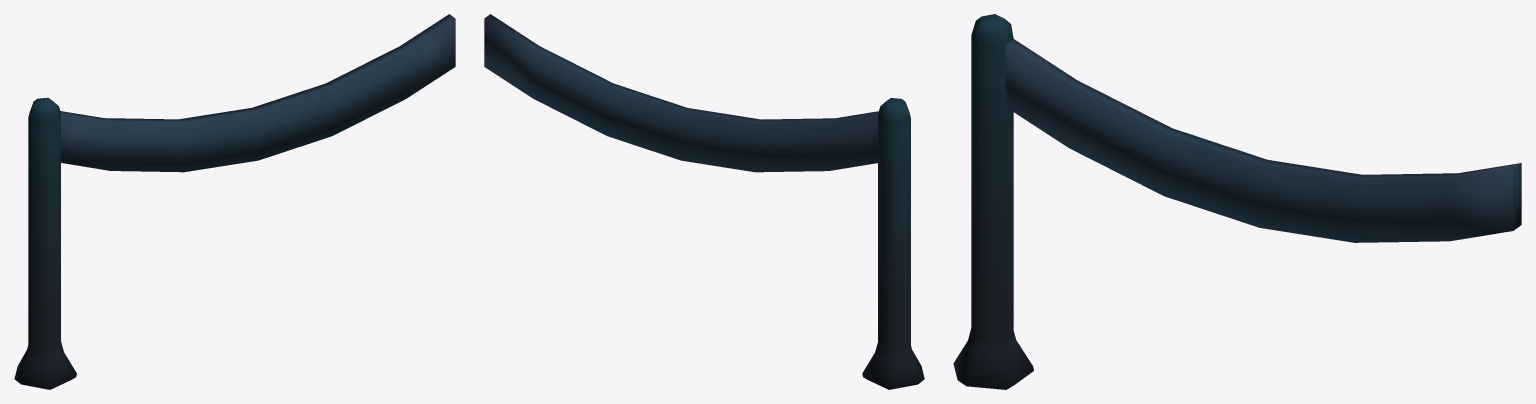
Rendered from barrier.fbx.
3 views of the same model, side by side, from view 1: azimuth 30°, elevation 25°; view 2: azimuth 150°, elevation 25°; view 3: azimuth 330°, elevation 25° (orthographic). The views are drawn at different scales.
Parts seen in each view (by area): view 1: Cylinder.001; view 2: Cylinder.001; view 3: Cylinder.001.
Part boxes in pixels (x1,y1,x2,y2): Cylinder.001: (14,14,455,389); Cylinder.001: (484,14,924,389); Cylinder.001: (953,14,1521,389).
Size of the model in its own units: 627 by 79.76 by 381.
1 material, 1 textured.
